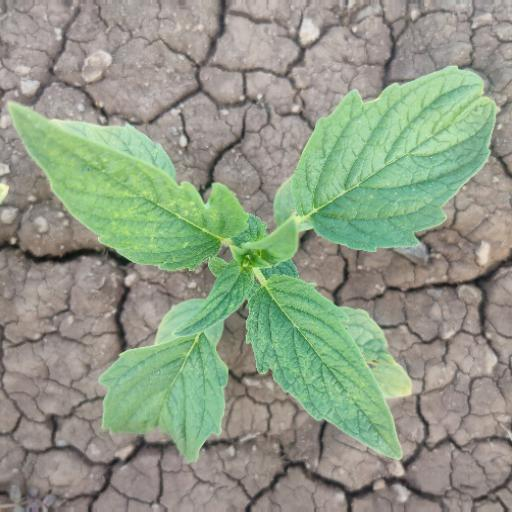crop: (1, 56, 497, 469)
